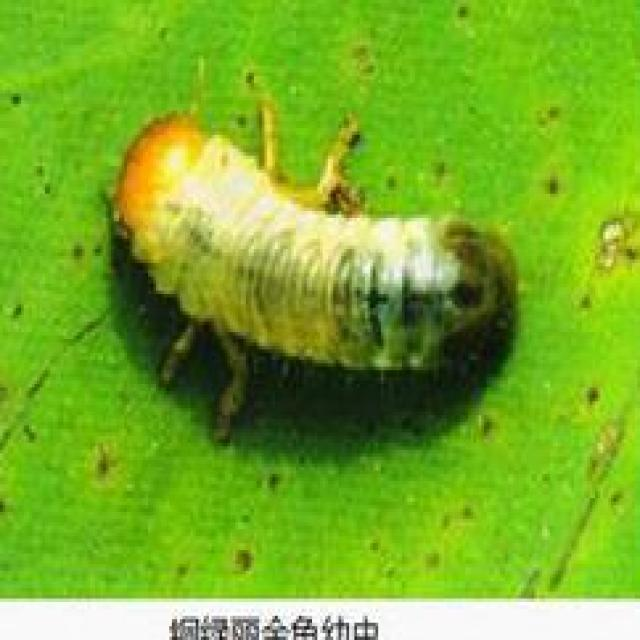Grub-Adult-: (80, 85, 517, 398)
